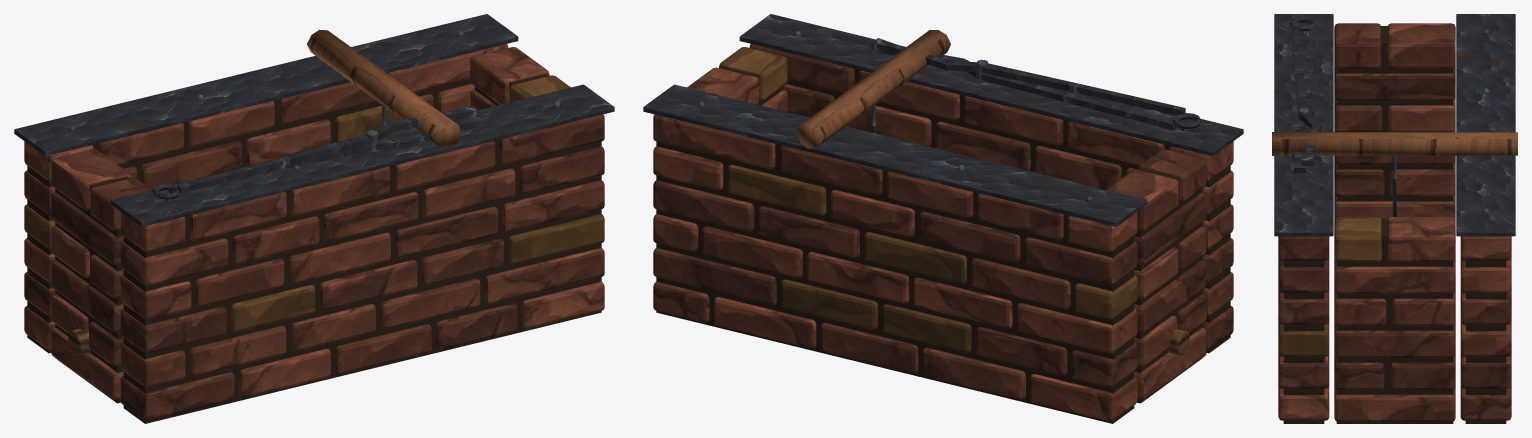
File: cf_quench_trough.glb
The picture shows the model from 3 angles, left to right: view 1: azimuth 30°, elevation 25°; view 2: azimuth 150°, elevation 25°; view 3: azimuth 270°, elevation 25°; orthographic projection. The views are drawn at different scales.
Parts seen in each view (by area): view 1: model; view 2: model; view 3: model.
Boxes of the visible parts, bbox=[...] form: model: bbox=[14, 14, 614, 423]; model: bbox=[643, 14, 1243, 423]; model: bbox=[1272, 14, 1517, 423].
Bounding box in the file's own units: 1.23 × 0.5681 × 0.58.
Materials: 11 (10 with a texture image).
